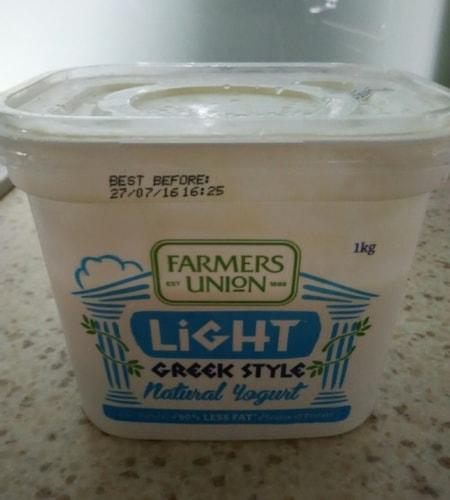plastic: (0, 63, 449, 454)
